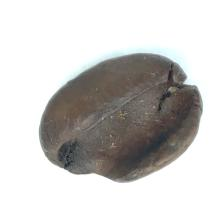NG: (79, 86, 199, 169), (55, 140, 157, 183)
